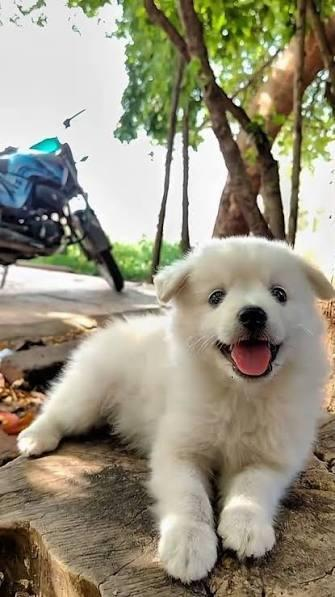puppy-dog: (17, 238, 334, 585)
